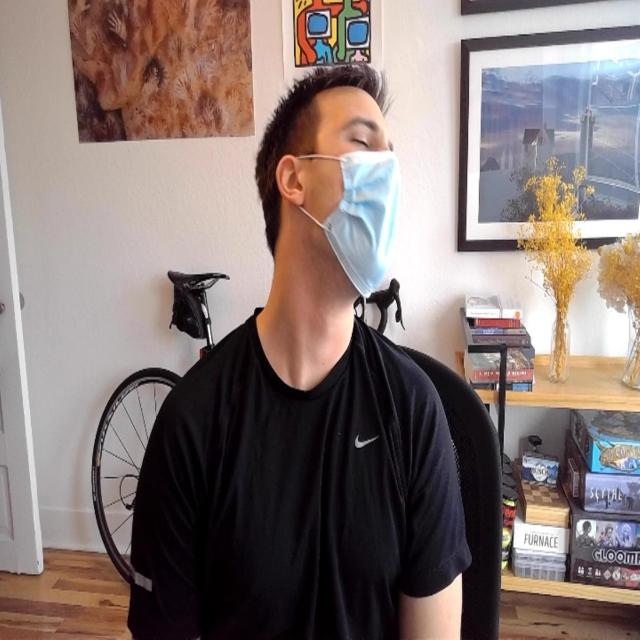Mask: (292, 88, 405, 298)
